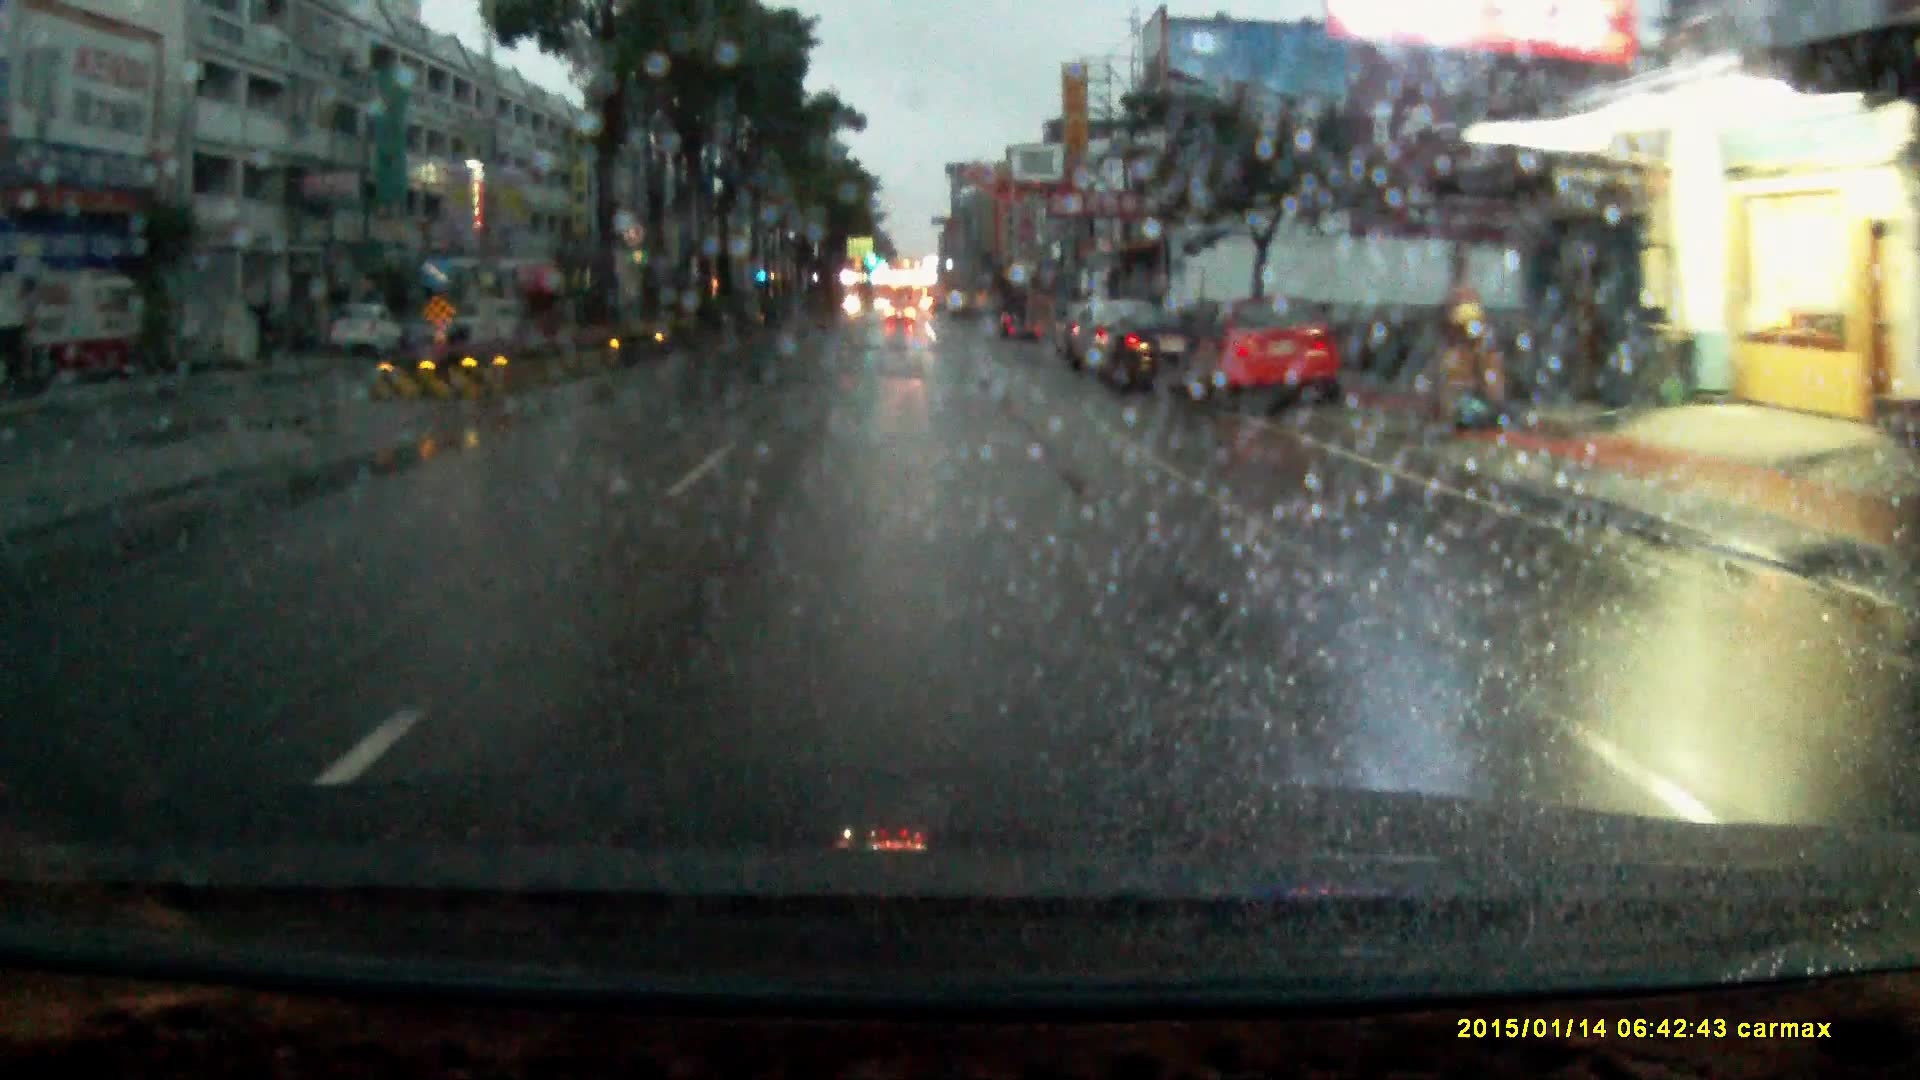vehicle: (1184, 301, 1340, 413), (1091, 301, 1204, 400), (1069, 301, 1149, 376), (436, 297, 533, 342), (328, 302, 406, 357), (1000, 293, 1047, 344), (884, 302, 918, 330)
